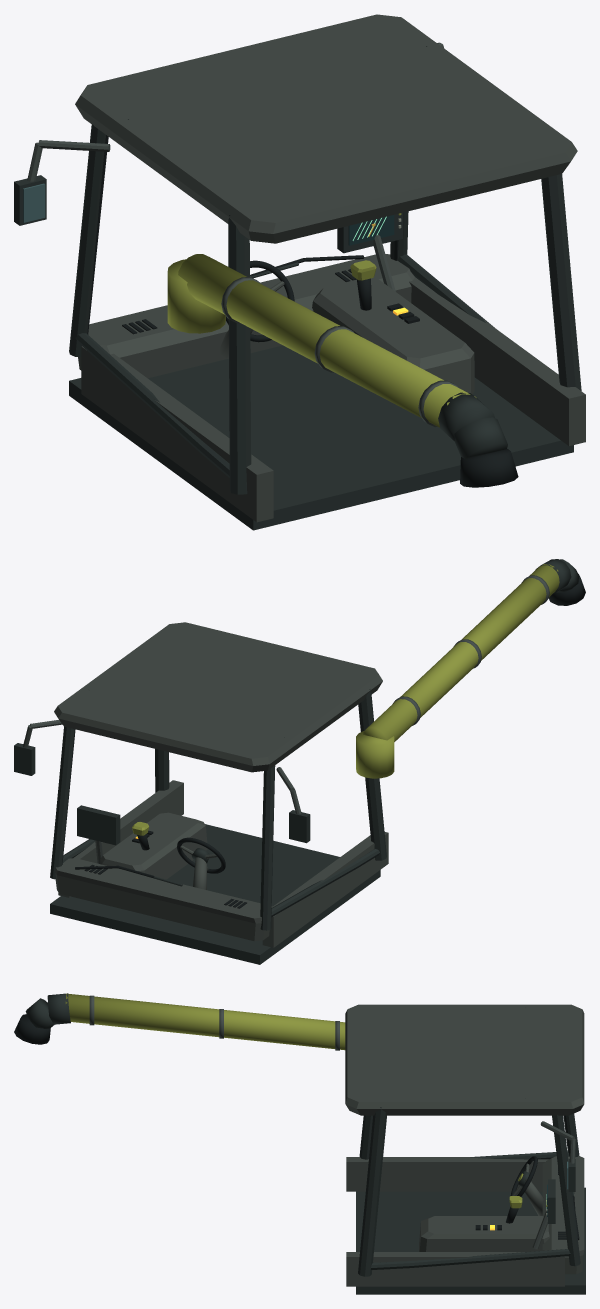
Rendered from cabine.glb.
3 views of the same model, one above another, from view 1: azimuth 30°, elevation 25°; view 2: azimuth 150°, elevation 25°; view 3: azimuth 270°, elevation 25° (orthographic). The views are drawn at different scales.
Visible parts, largest first — view 1: EstruturaCabine, TuboDescarga, Volante; view 2: EstruturaCabine, TuboDescarga, Volante; view 3: EstruturaCabine, TuboDescarga, Volante.
Part boxes in pixels (x1,y1,x2,y2): EstruturaCabine: [14, 14, 585, 530]; TuboDescarga: [167, 254, 518, 487]; Volante: [226, 260, 294, 342]; EstruturaCabine: [14, 622, 388, 964]; TuboDescarga: [356, 559, 585, 778]; Volante: [177, 837, 225, 873]; EstruturaCabine: [345, 1004, 585, 1294]; TuboDescarga: [14, 993, 345, 1050]; Volante: [510, 1156, 537, 1196].
Bounding box in the file's own units: 3.15 × 2.11 × 5.6.
